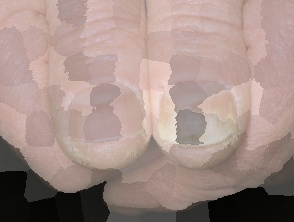Nail_psoriasis: (45, 52, 162, 182), (151, 69, 250, 169)
